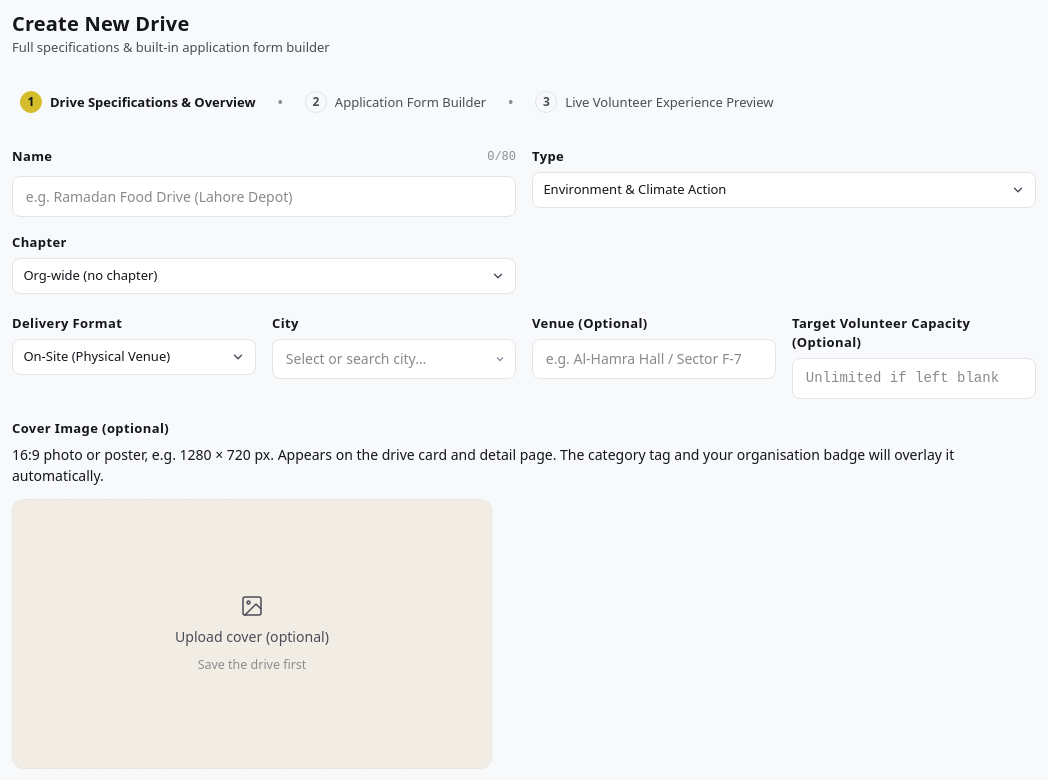
Scenario: Comprehensive Roles & Permissions Automated Test Matrix › Matrix 5: Chapter Scoping Boundaries › Unrestricted creator in CreateOpportunityForm sees all chapters and org-wide option
This screenshot has width=1048, height=780.
Click the dropdown labelled "chapter". click: (90, 275)
box: [12, 258, 516, 294]
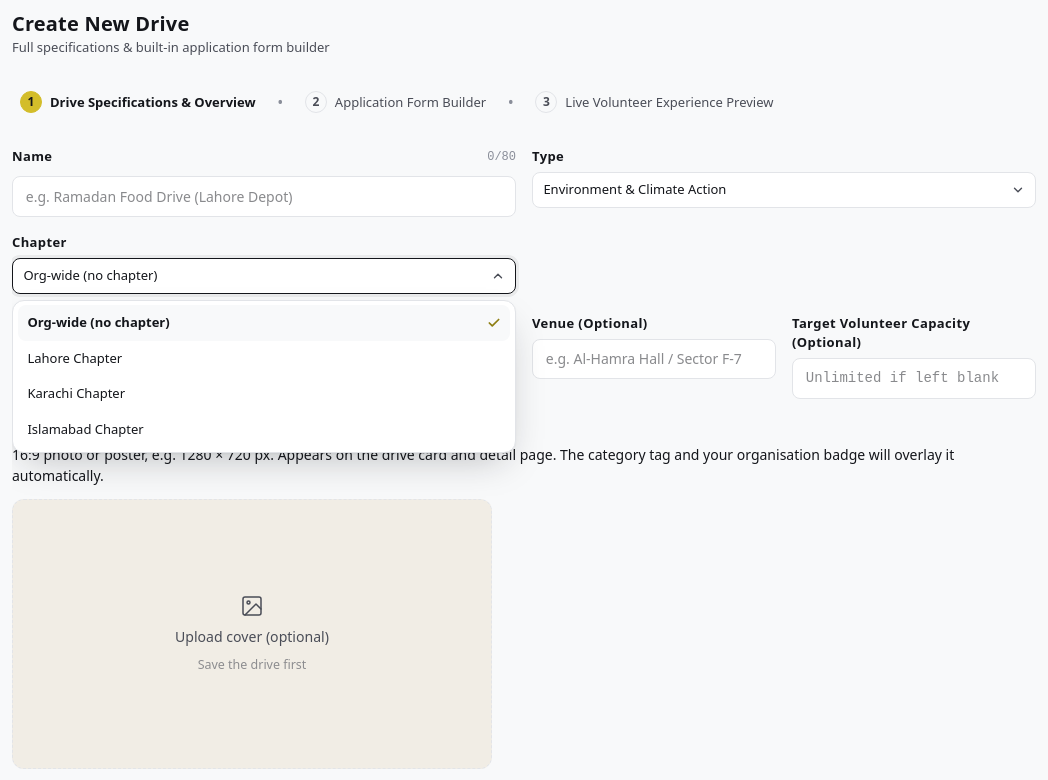
Expected: the option "Org-wide (no chapter)" is shown, [18, 305, 510, 341]
Expected: the option "Lahore Chapter" is shown, [18, 341, 510, 376]
Expected: the option "Karachi Chapter" is shown, [18, 376, 510, 412]
